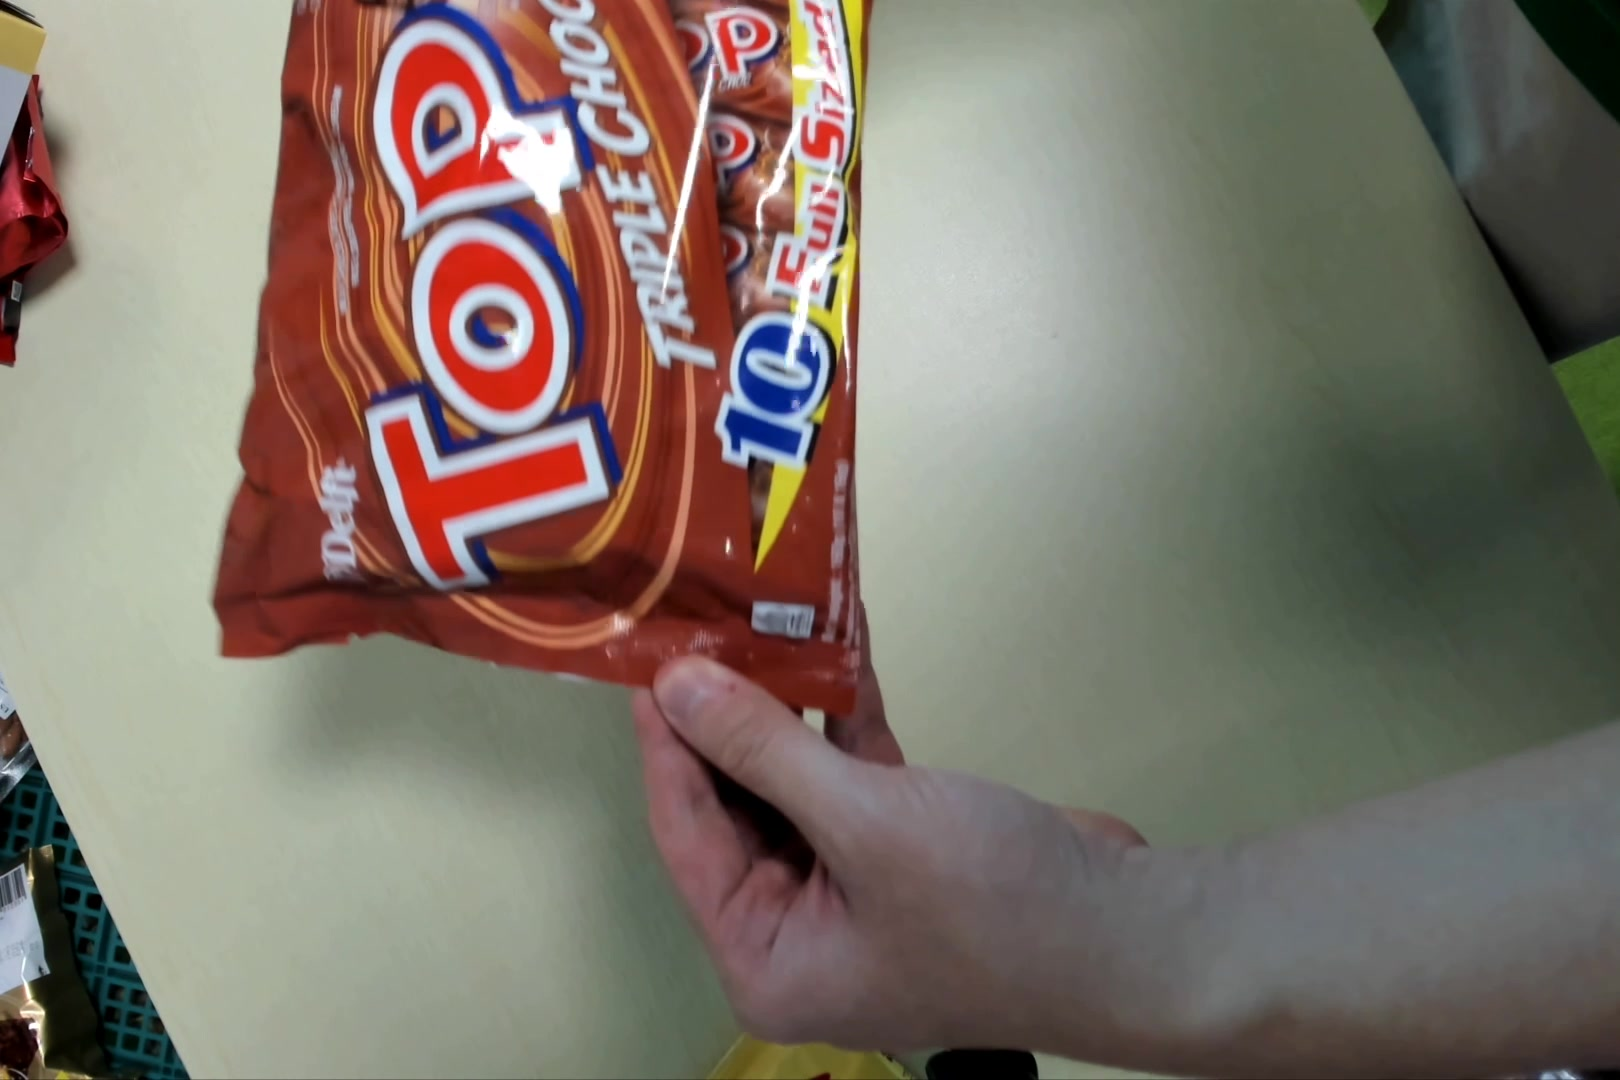SweetsChocolatesOthers_100-199g_NonHalal_NonHealthy: (219, 6, 884, 724)
